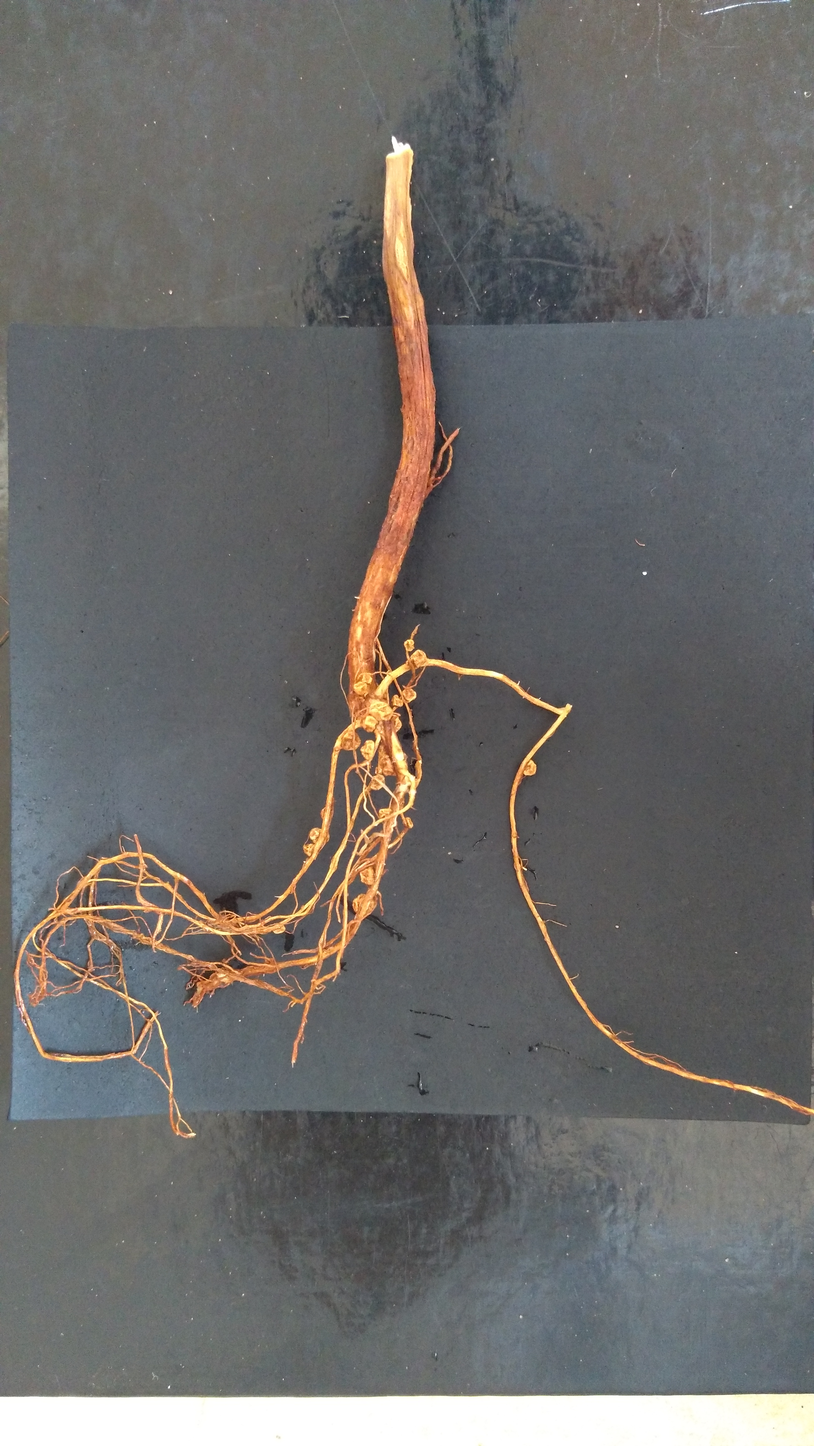nodule: (377, 744, 397, 778), (351, 892, 378, 915), (367, 701, 393, 721), (340, 730, 362, 752), (409, 648, 428, 670), (358, 864, 376, 886), (359, 739, 375, 761), (369, 774, 386, 792), (401, 687, 418, 704), (522, 759, 537, 777), (362, 716, 377, 733), (307, 826, 321, 844), (353, 681, 368, 696), (389, 715, 402, 732), (377, 808, 394, 819), (402, 638, 415, 652), (390, 694, 404, 707), (302, 844, 315, 857), (360, 672, 374, 684), (404, 816, 414, 830), (272, 924, 286, 934), (319, 806, 327, 820)
